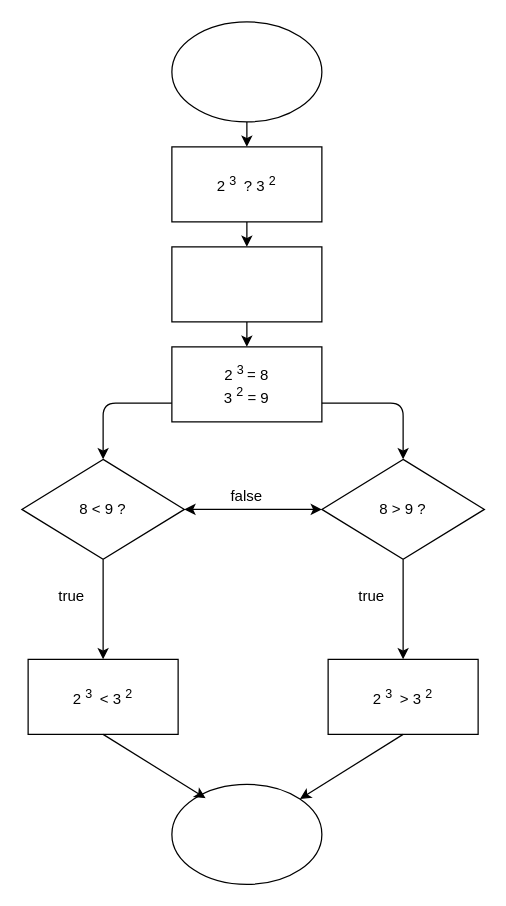
Image size: 506x906. Some labels were removed from this diagram. Here are the shapes that lost their labels. From the top down, the box of each, then its label:
(171, 21, 322, 122): start
(171, 246, 322, 322): make calculation
(171, 783, 322, 884): end
